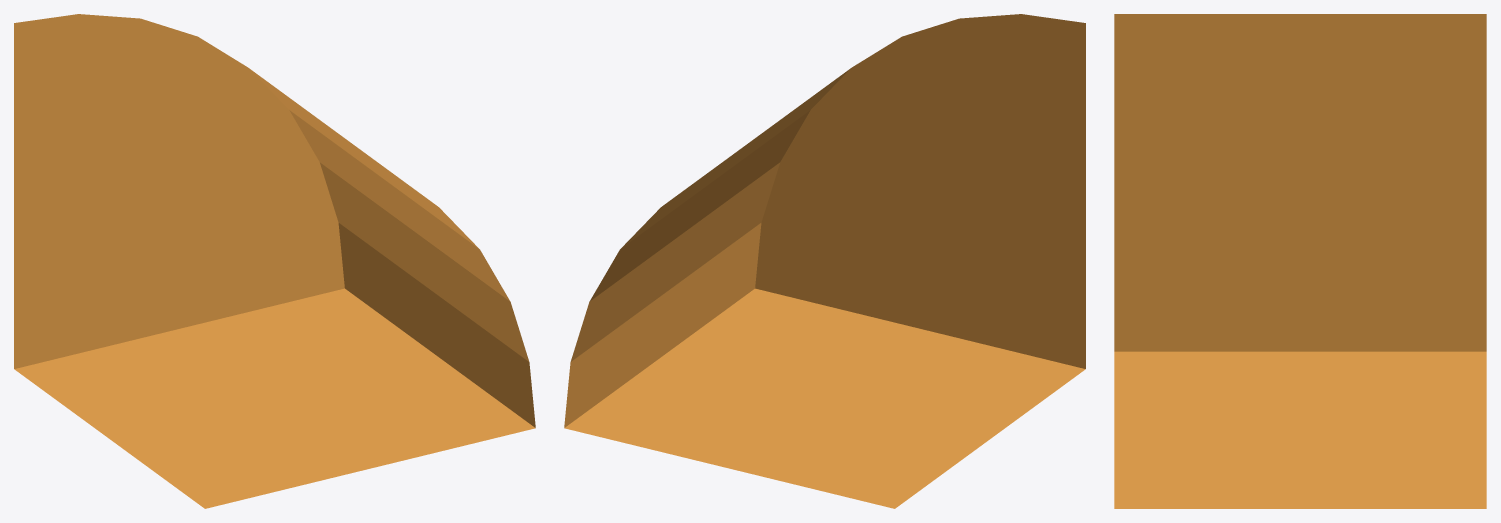
File: r4c3_border_orange.gltf
3 views of the same model, side by side, from view 1: azimuth 30°, elevation 25°; view 2: azimuth 150°, elevation 25°; view 3: azimuth 270°, elevation 25° (orthographic). The views are drawn at different scales.
Parts seen in each view (by area): view 1: r4c3_border_orange; view 2: r4c3_border_orange; view 3: r4c3_border_orange.
Part boxes in pixels (box(x1,y1,x2,y2)): r4c3_border_orange: box(14, 14, 535, 508); r4c3_border_orange: box(564, 14, 1085, 508); r4c3_border_orange: box(1114, 14, 1486, 508).
Bounding box in the file's own units: 2.1 × 2.1 × 2.1.
Materials: 1 (1 with a texture image).
